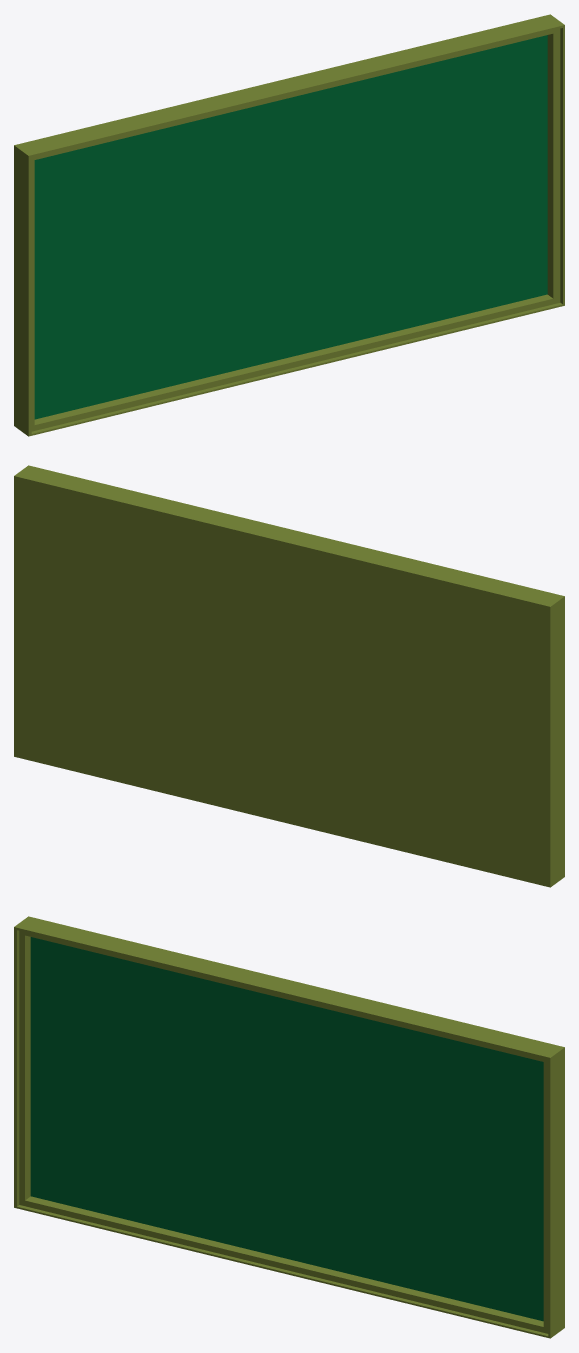
The model's file is Tableau_moyen.fbx.
3 renders of one model, top to bottom at view 1: azimuth 30°, elevation 25°; view 2: azimuth 150°, elevation 25°; view 3: azimuth 330°, elevation 25°, orthographic.
Visible parts, largest first — view 1: Box003; view 2: Box003; view 3: Box003.
Boxes of the visible parts, x1,y1,x2,y2 form: Box003: (14, 14, 564, 436); Box003: (14, 465, 564, 887); Box003: (14, 916, 564, 1338).
Bounding box in the file's own units: 163 × 81.41 × 7.65.
